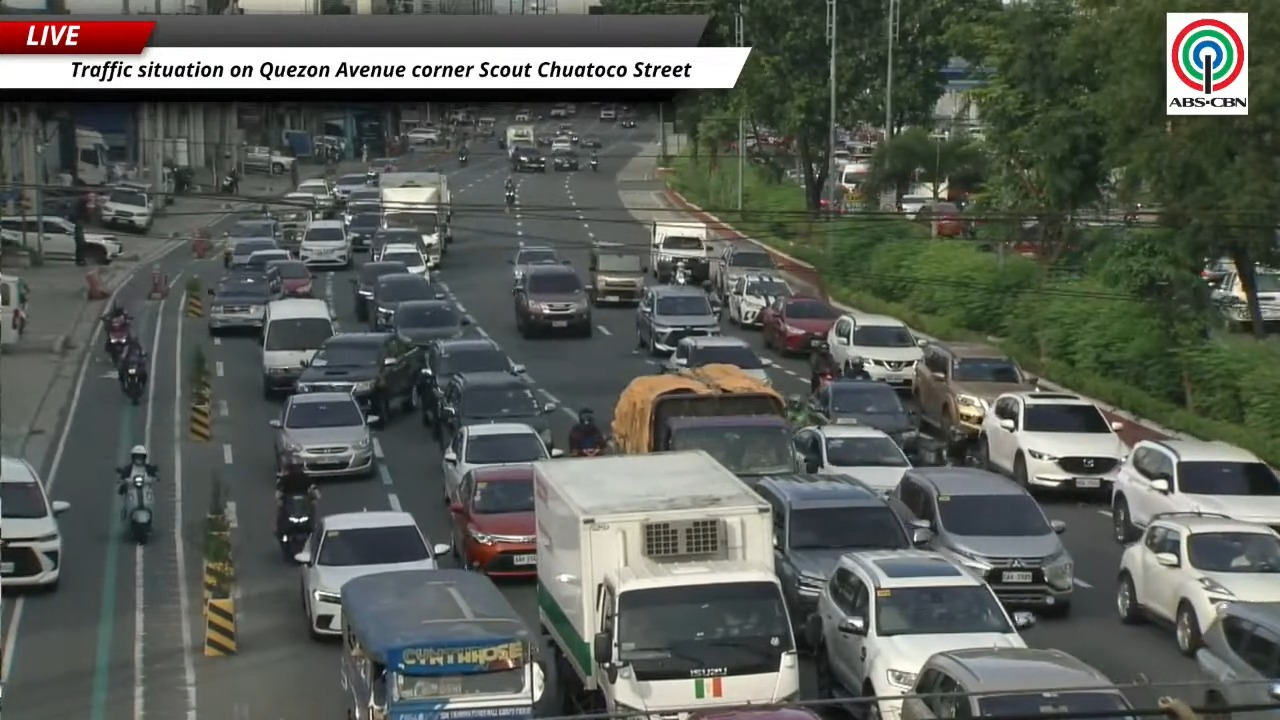car: (809, 550, 1034, 716), (892, 467, 1074, 616), (753, 474, 914, 629), (1116, 512, 1279, 655), (295, 511, 450, 635), (1111, 439, 1279, 543), (900, 647, 1133, 719), (978, 392, 1128, 496), (912, 341, 1037, 449), (296, 333, 420, 422), (442, 422, 562, 503), (1196, 602, 1279, 719), (450, 465, 536, 576), (417, 337, 523, 426), (270, 391, 379, 477), (433, 371, 556, 446), (0, 456, 69, 586), (793, 424, 911, 494), (808, 379, 918, 450), (261, 298, 335, 398), (826, 315, 923, 387), (637, 285, 720, 355), (513, 265, 593, 337), (663, 336, 772, 384), (760, 295, 838, 354), (369, 272, 445, 330), (711, 242, 778, 300), (207, 278, 274, 335), (392, 299, 469, 346), (588, 242, 646, 304), (725, 274, 792, 327), (0, 215, 80, 259), (350, 262, 408, 320), (100, 183, 159, 232), (299, 220, 352, 268), (215, 264, 281, 297), (509, 244, 565, 281), (913, 202, 968, 238), (687, 705, 821, 719), (369, 227, 429, 256), (375, 243, 429, 275), (270, 260, 313, 297), (227, 237, 277, 268), (1252, 267, 1279, 323), (346, 210, 384, 249), (244, 146, 296, 174), (341, 188, 380, 224), (297, 178, 335, 211), (243, 247, 292, 271), (333, 173, 369, 205), (283, 191, 319, 218), (511, 148, 546, 172), (366, 157, 398, 182), (406, 126, 441, 145), (553, 148, 579, 171), (551, 133, 574, 153), (579, 135, 602, 148), (598, 107, 616, 121), (514, 109, 532, 122), (535, 134, 554, 146), (549, 105, 567, 117), (620, 118, 637, 129)
motorcycle: (277, 493, 314, 560), (124, 467, 154, 545), (106, 317, 130, 366), (122, 365, 143, 405), (673, 261, 691, 285), (219, 173, 238, 194), (572, 447, 603, 457), (505, 190, 515, 209), (458, 153, 468, 167), (590, 158, 598, 171)
truck: (533, 451, 798, 716), (610, 364, 798, 482), (379, 172, 451, 253), (649, 222, 710, 282), (505, 124, 535, 157)
